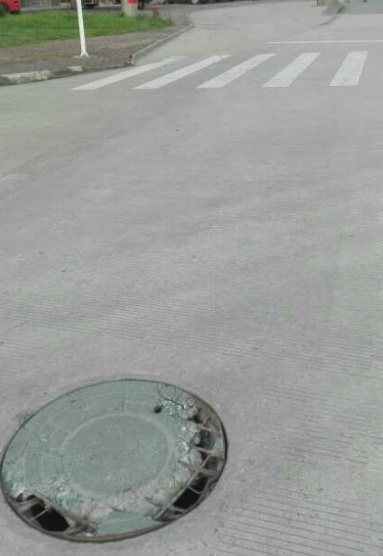broke: (2, 380, 229, 544)
